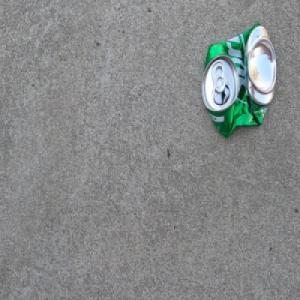SodaCan: (200, 21, 278, 140)
